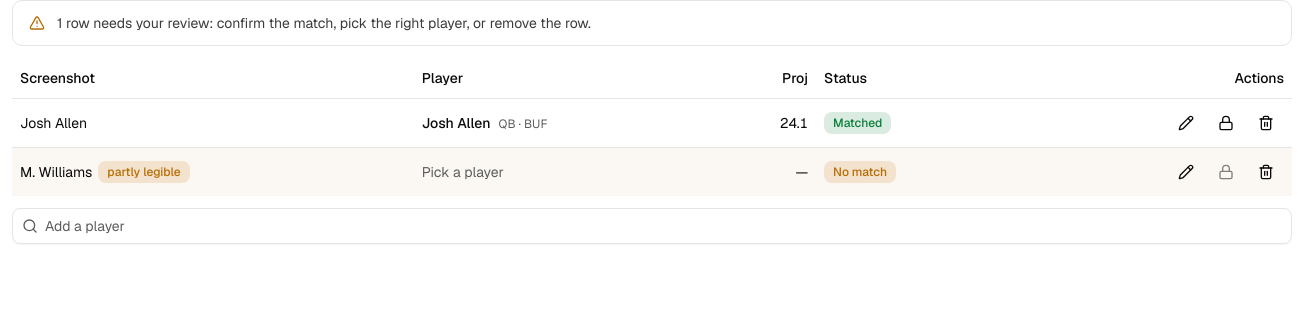
ReviewTable › adds a player found by search
Type "jos" into the field with placeholder "Add a player" at (652, 226), box [12, 208, 1292, 244]
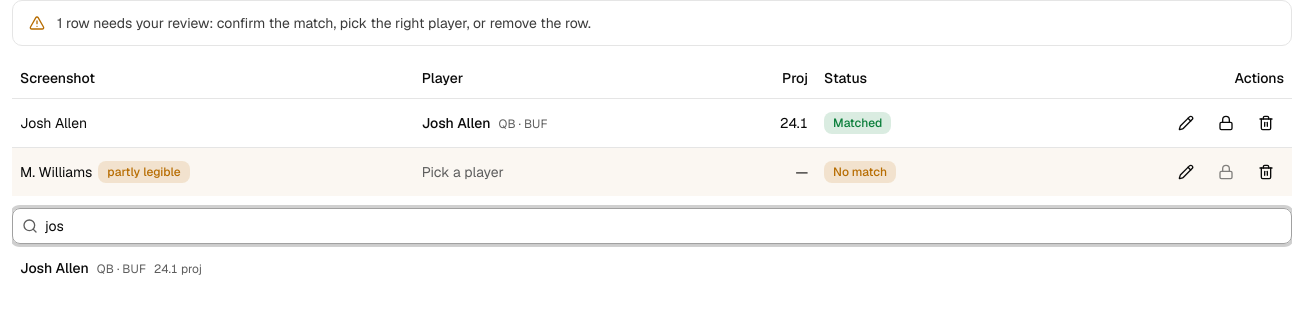
Click the button "Josh Allen QB · BUF 24.1 proj" at (54, 268), box [12, 252, 1292, 284]
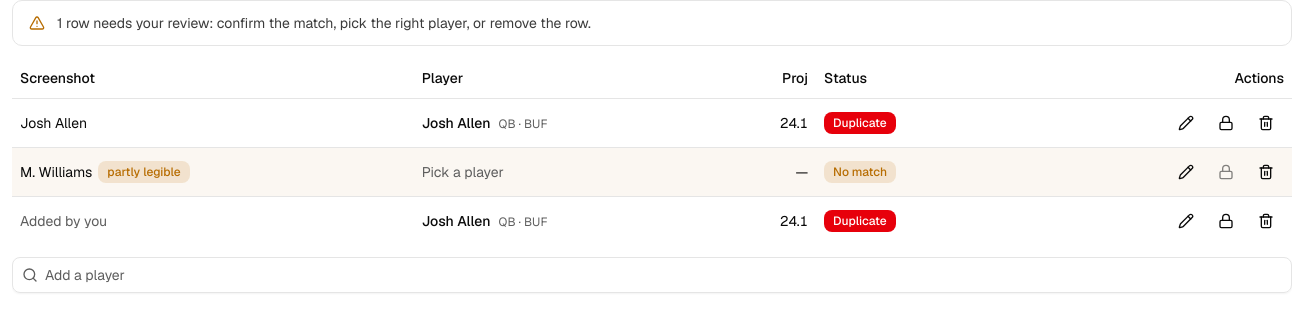
Check: the text "Duplicate" is shown 2 times, box [824, 112, 896, 134]; [824, 210, 896, 232]
